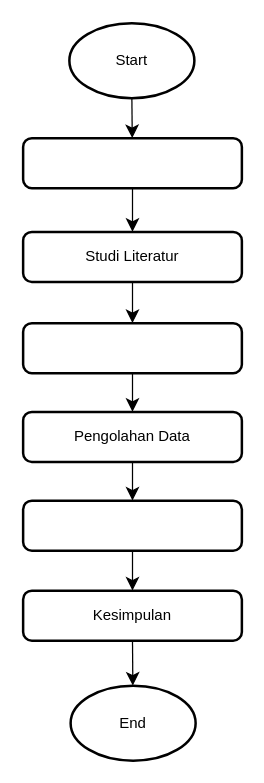
Some shapes in this 264 by 783 pixel diagram are drawn without their labels. Here are the shapes that lost their labels. From the top down, the centre of each, then its label:
(x=131, y=162): Identifikasi Masalah
(x=131, y=347): Pengumpulan Data
(x=131, y=525): Analisis
